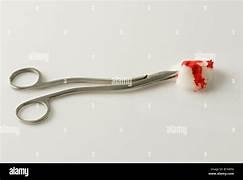cotton: (176, 60, 212, 90)
